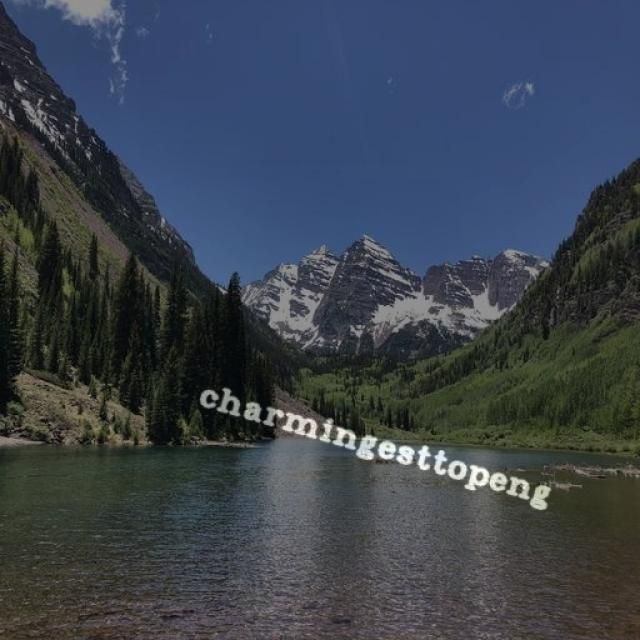watermark: (190, 380, 572, 509)
